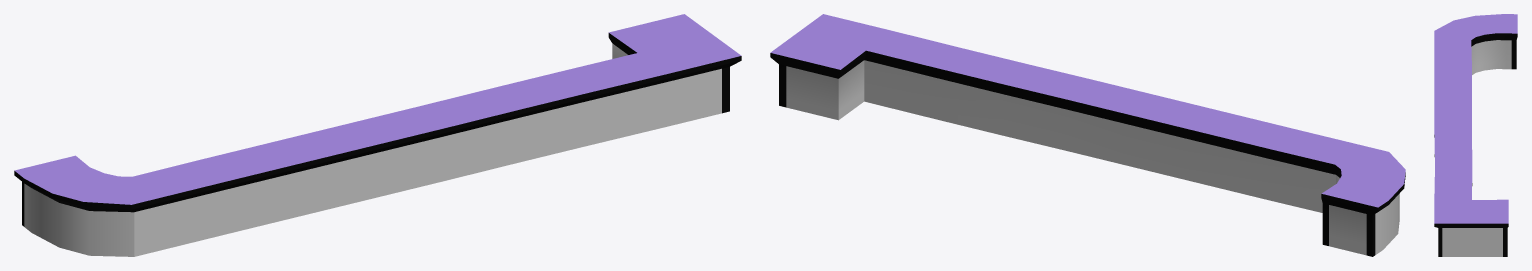
File: tavernbartop.fbx
3 views of the same model, side by side, from view 1: azimuth 30°, elevation 25°; view 2: azimuth 150°, elevation 25°; view 3: azimuth 270°, elevation 25° (orthographic). The views are drawn at different scales.
Visible parts, largest first — view 1: Bar; view 2: Bar; view 3: Bar.
Part boxes in pixels (bbox=[...]): Bar: bbox=[14, 14, 741, 256]; Bar: bbox=[770, 14, 1405, 256]; Bar: bbox=[1434, 14, 1517, 256].
Bounding box in the file's own units: 5505 × 441 × 927.
